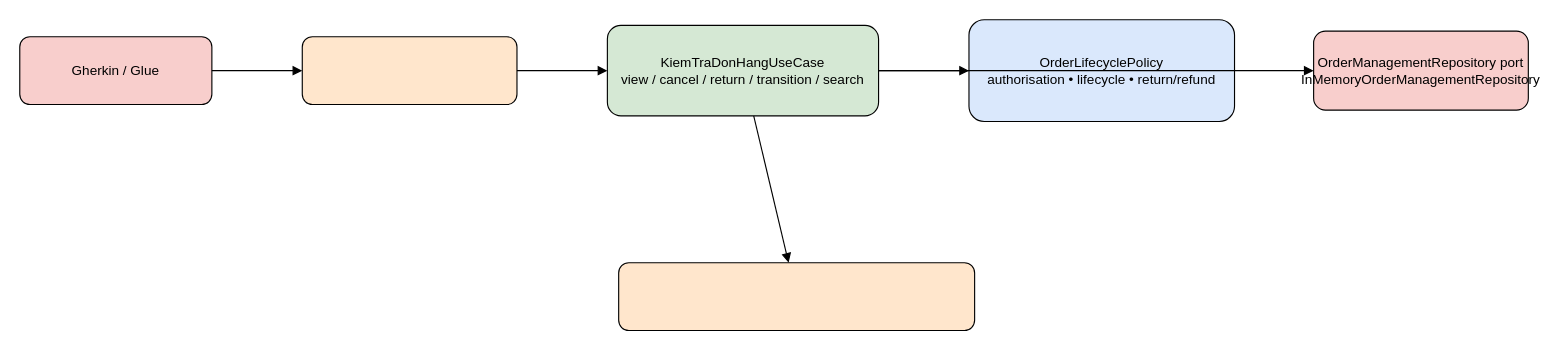
The diagram is 1559 pixels wide and 350 high, and some of its shapes have lost their labels. Each missing label, with the box of its shape:
KiemTraDonHangRequest InputBoundary: (301, 36, 517, 105)
Response → KiemTraDonHangPresenter → ViewModel: (618, 262, 975, 331)
